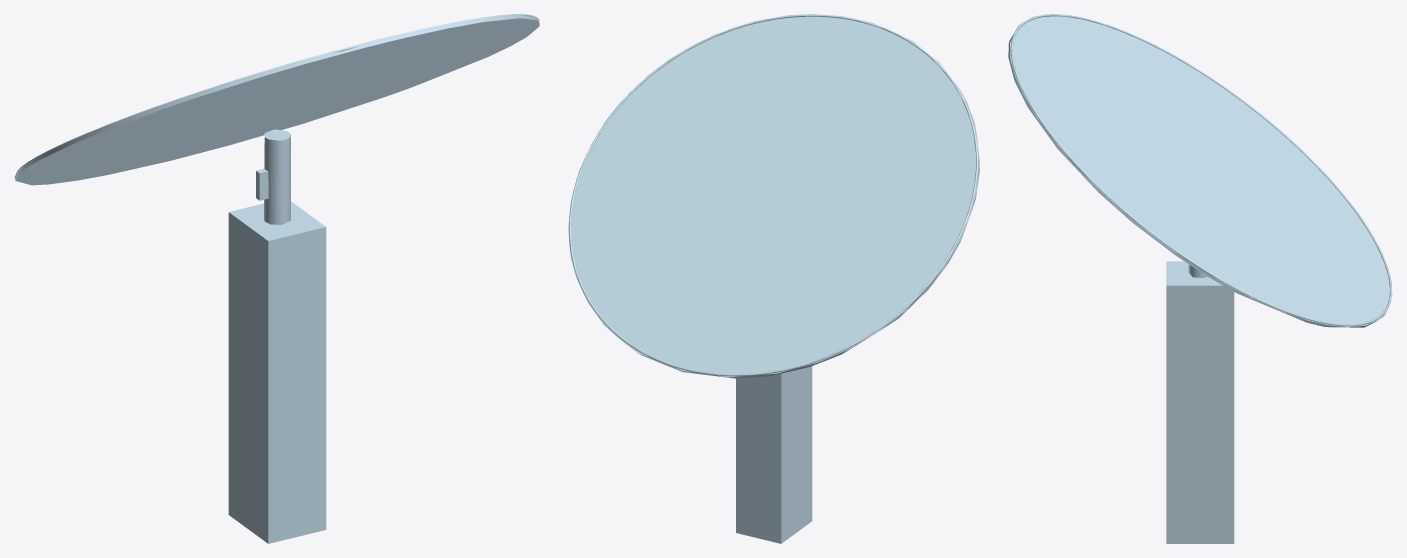
The model's file is pod_assembly_lod2.glb.
3 views of the same model, side by side, from view 1: azimuth 30°, elevation 25°; view 2: azimuth 150°, elevation 25°; view 3: azimuth 270°, elevation 25° (orthographic). The views are drawn at different scales.
Visible parts, largest first — view 1: Pod container, Solar disc, Hatch column, Solar rim; view 2: Solar disc, Pod container, Solar rim; view 3: Solar disc, Pod container, Solar rim.
Boxes of the visible parts, x1,y1,x2,y2 form: Pod container: (228, 201, 326, 543); Solar disc: (14, 15, 539, 185); Hatch column: (264, 129, 290, 224); Solar rim: (15, 14, 534, 174); Solar disc: (568, 14, 979, 378); Pod container: (736, 366, 812, 543); Solar rim: (569, 14, 978, 376); Solar disc: (1008, 16, 1392, 327); Pod container: (1166, 261, 1234, 543); Solar rim: (1010, 14, 1391, 326).
Size of the model in its own units: 19.99 by 22.79 by 16.44.
